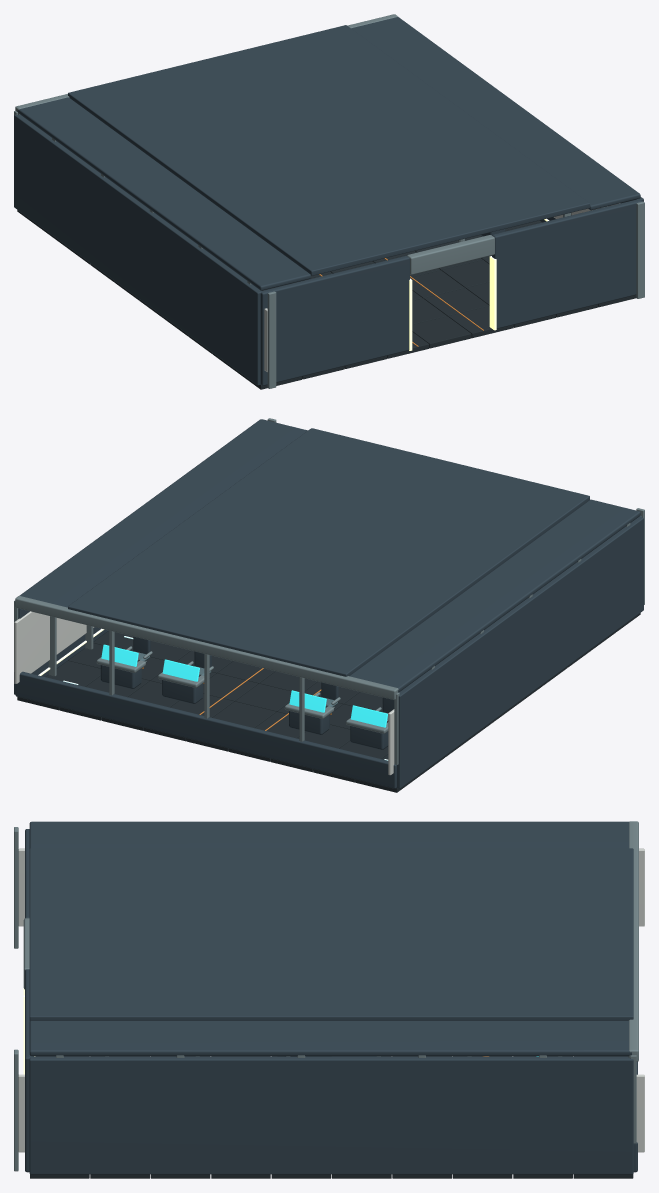
The model's file is bridge_room.glb.
The picture shows the model from 3 angles, top to bottom: view 1: azimuth 30°, elevation 25°; view 2: azimuth 150°, elevation 25°; view 3: azimuth 270°, elevation 25°; orthographic projection. The views are drawn at different scales.
Parts seen in each view (by area): view 1: bridge_room; view 2: bridge_room; view 3: bridge_room.
Boxes of the visible parts, bbox=[...] form: bridge_room: bbox=[14, 14, 644, 389]; bridge_room: bbox=[14, 418, 644, 792]; bridge_room: bbox=[14, 821, 644, 1178].
Bounding box in the file's own units: 18.3 × 4.82 × 20.89.
